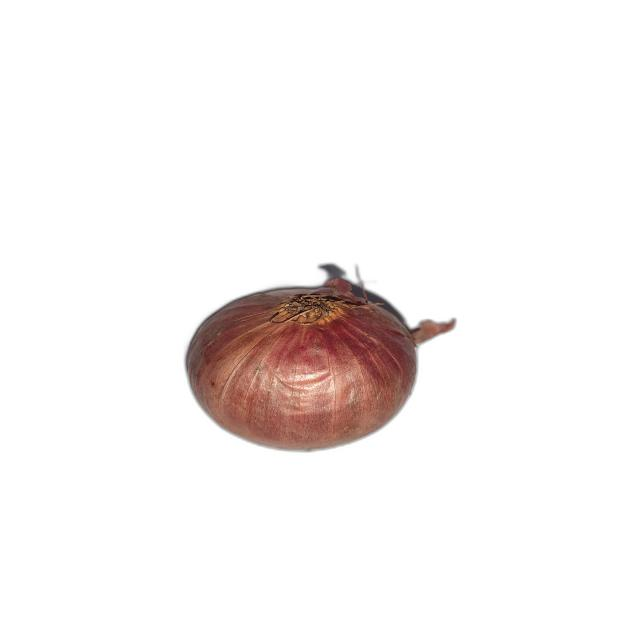onion: (188, 277, 456, 451)
